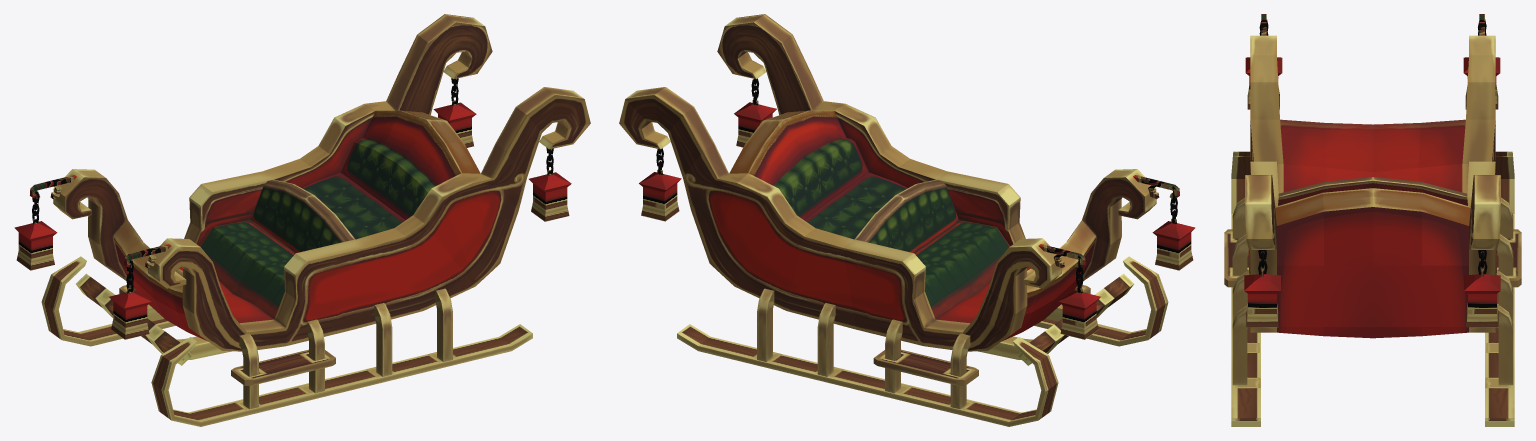
Rendered from sled.fbx.
3 views of the same model, side by side, from view 1: azimuth 30°, elevation 25°; view 2: azimuth 150°, elevation 25°; view 3: azimuth 270°, elevation 25° (orthographic). The views are drawn at different scales.
Parts seen in each view (by area): view 1: sled; view 2: sled; view 3: sled.
Boxes of the visible parts, x1,y1,x2,y2 form: sled: (14,14,590,426); sled: (619,14,1195,426); sled: (1224,14,1521,426).
Size of the model in its own units: 44.22 by 21.68 by 21.11.
Materials: 1 (1 with a texture image).
